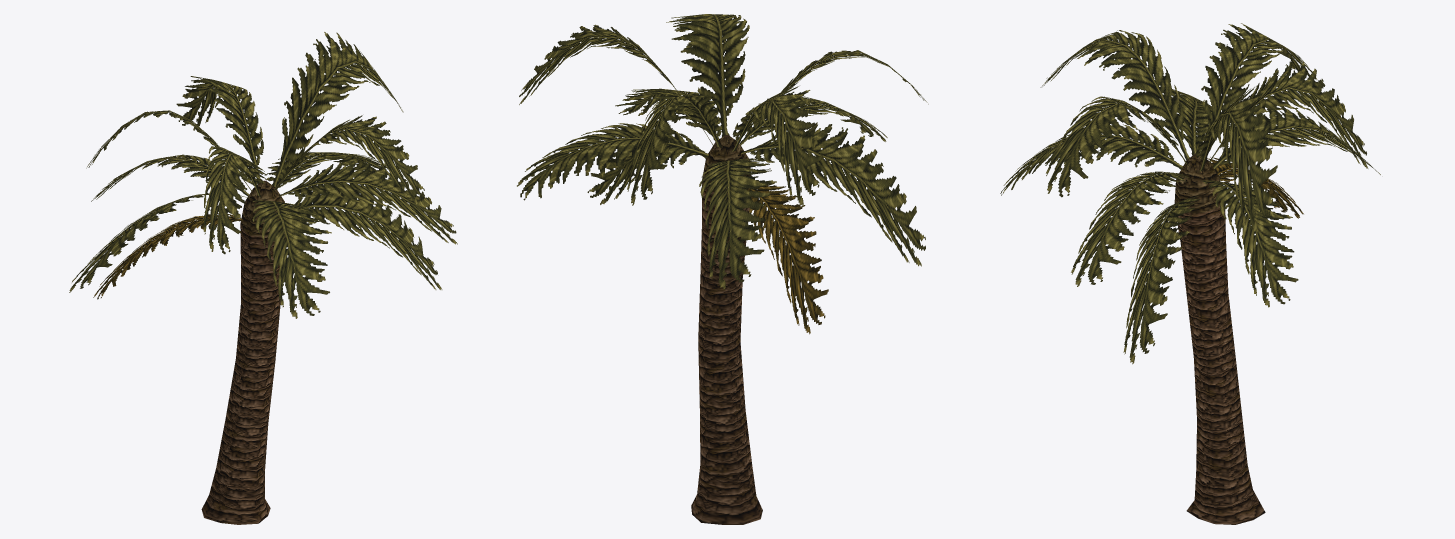
Rendered from Palmeira_03_Jovem_Baixa.glb.
3 renders of one model, left to right at view 1: azimuth 30°, elevation 25°; view 2: azimuth 150°, elevation 25°; view 3: azimuth 270°, elevation 25°, orthographic. The views are drawn at different scales.
Parts seen in each view (by area): view 1: Folhas novas, Folhas abertas, Caule, Folhas inferiores, Bainhas da copa; view 2: Folhas abertas, Folhas novas, Caule, Folhas inferiores, Bainhas da copa; view 3: Folhas novas, Folhas abertas, Caule, Folhas inferiores, Bainhas da copa.
Part boxes in pixels (<box>): Folhas novas: <box>86,32,424,254</box>; Folhas abertas: <box>69,152,457,318</box>; Caule: <box>201,224,285,524</box>; Folhas inferiores: <box>93,182,442,299</box>; Bainhas da copa: <box>240,180,285,236</box>; Folhas abertas: <box>517,88,925,289</box>; Folhas novas: <box>519,14,928,206</box>; Caule: <box>691,184,762,524</box>; Folhas inferiores: <box>587,135,828,334</box>; Bainhas da copa: <box>702,135,751,193</box>; Folhas novas: <box>1040,23,1368,232</box>; Folhas abertas: <box>1000,85,1380,307</box>; Caule: <box>1177,206,1265,524</box>; Folhas inferiores: <box>1123,157,1303,364</box>; Bainhas da copa: <box>1174,154,1220,213</box>.
Bounding box in the file's own units: 5.58 × 5.91 × 5.01.
Materials: 2 (2 with a texture image).
